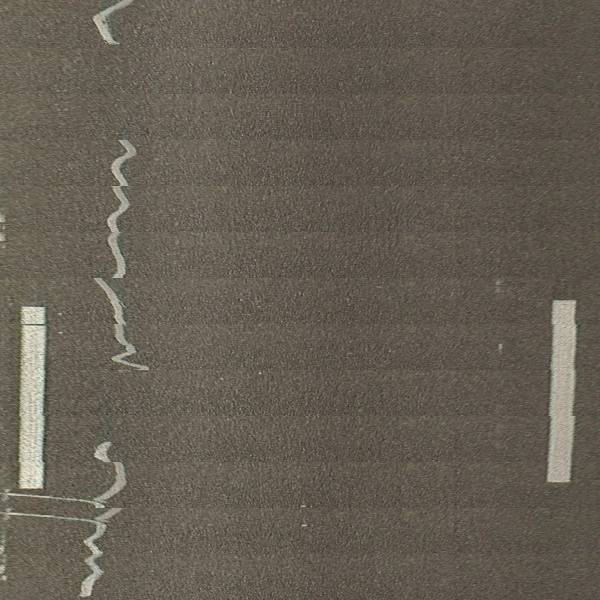road_damage: (91, 135, 145, 375), (74, 439, 129, 597), (90, 1, 138, 46)
